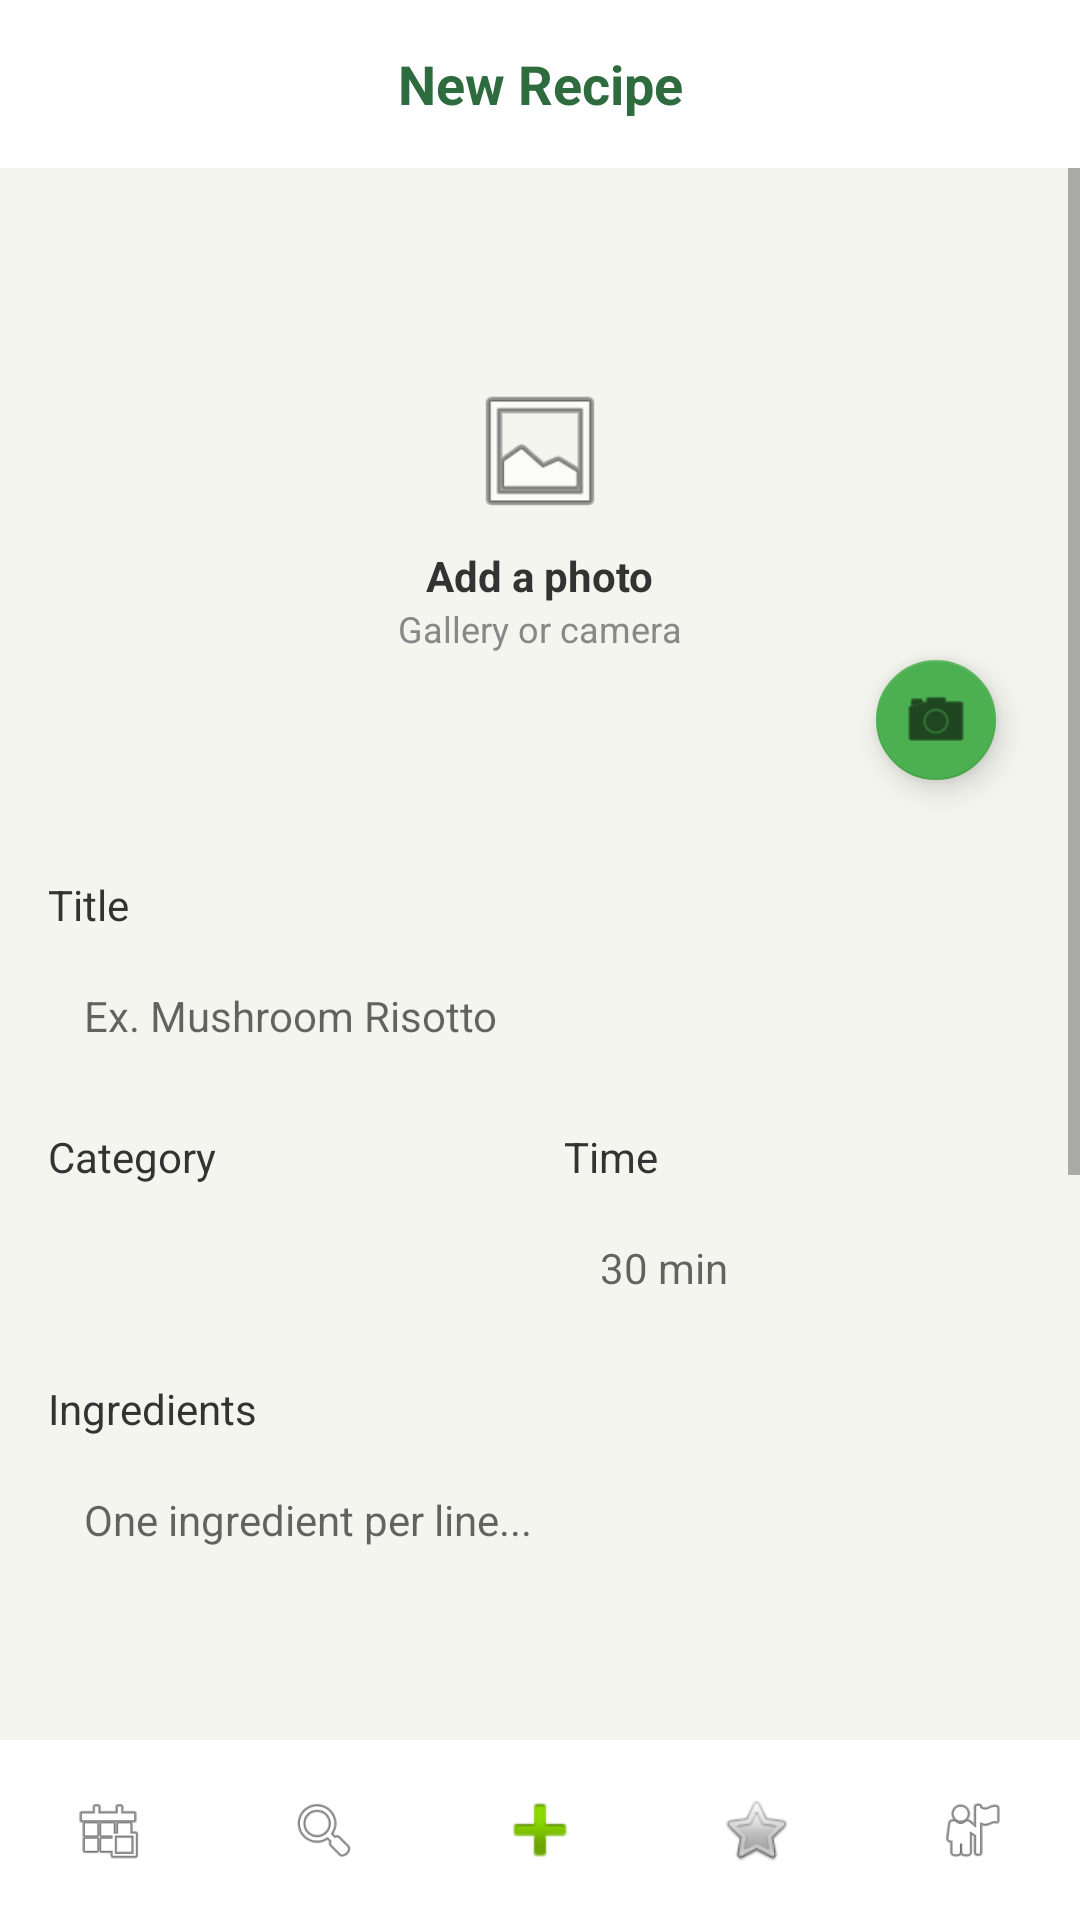

Named icons in this screenshot (1080×1920) and their centers, [x,y]:
add: [540,1830]
camera: [937,721]
myplaces: [973,1830]
search: [324,1830]
star off: [757,1830]
today: [108,1831]
